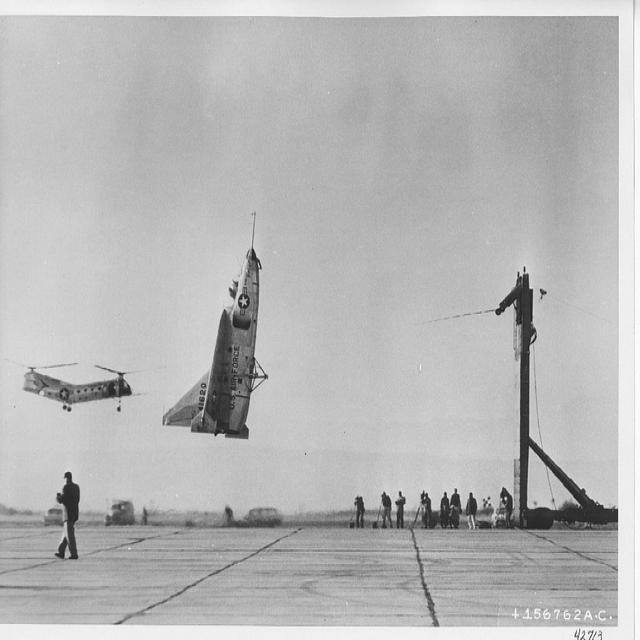Vehicle: (105, 499, 135, 526)
